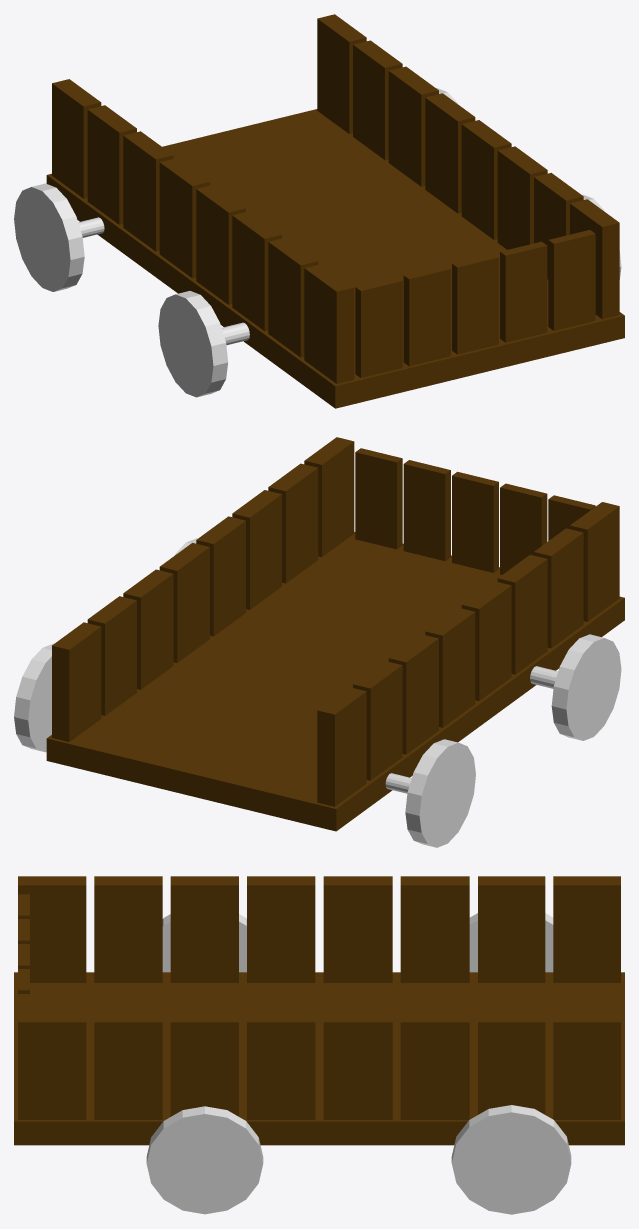
Rendered from cart.fbx.
3 views of the same model, one above another, from view 1: azimuth 30°, elevation 25°; view 2: azimuth 150°, elevation 25°; view 3: azimuth 270°, elevation 25° (orthographic). The views are drawn at different scales.
Parts seen in each view (by area): view 1: Cube; view 2: Cube; view 3: Cube.
Part boxes in pixels (bbox=[...]): Cube: bbox=[14, 14, 624, 408]; Cube: bbox=[14, 437, 624, 847]; Cube: bbox=[14, 876, 624, 1214].
Size of the model in its own units: 1238 by 440 by 1518.
